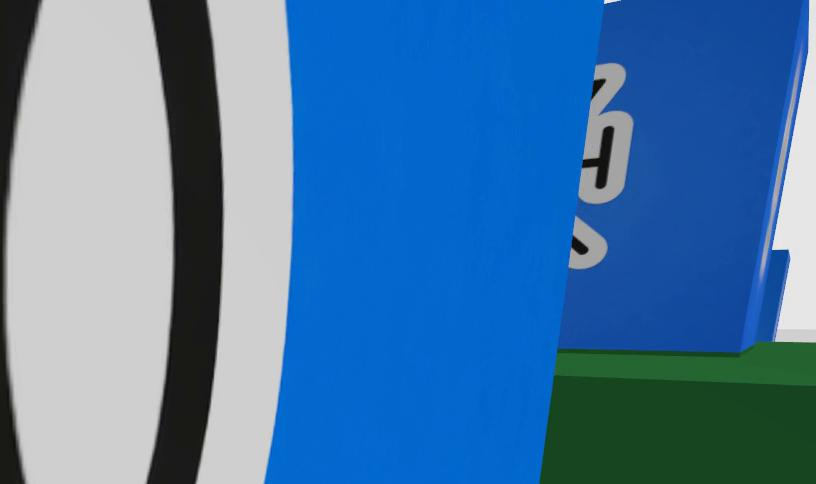KFS_REAL: (271, 0, 595, 484), (0, 0, 293, 484), (559, 0, 809, 353), (578, 65, 632, 204), (570, 216, 608, 267)
